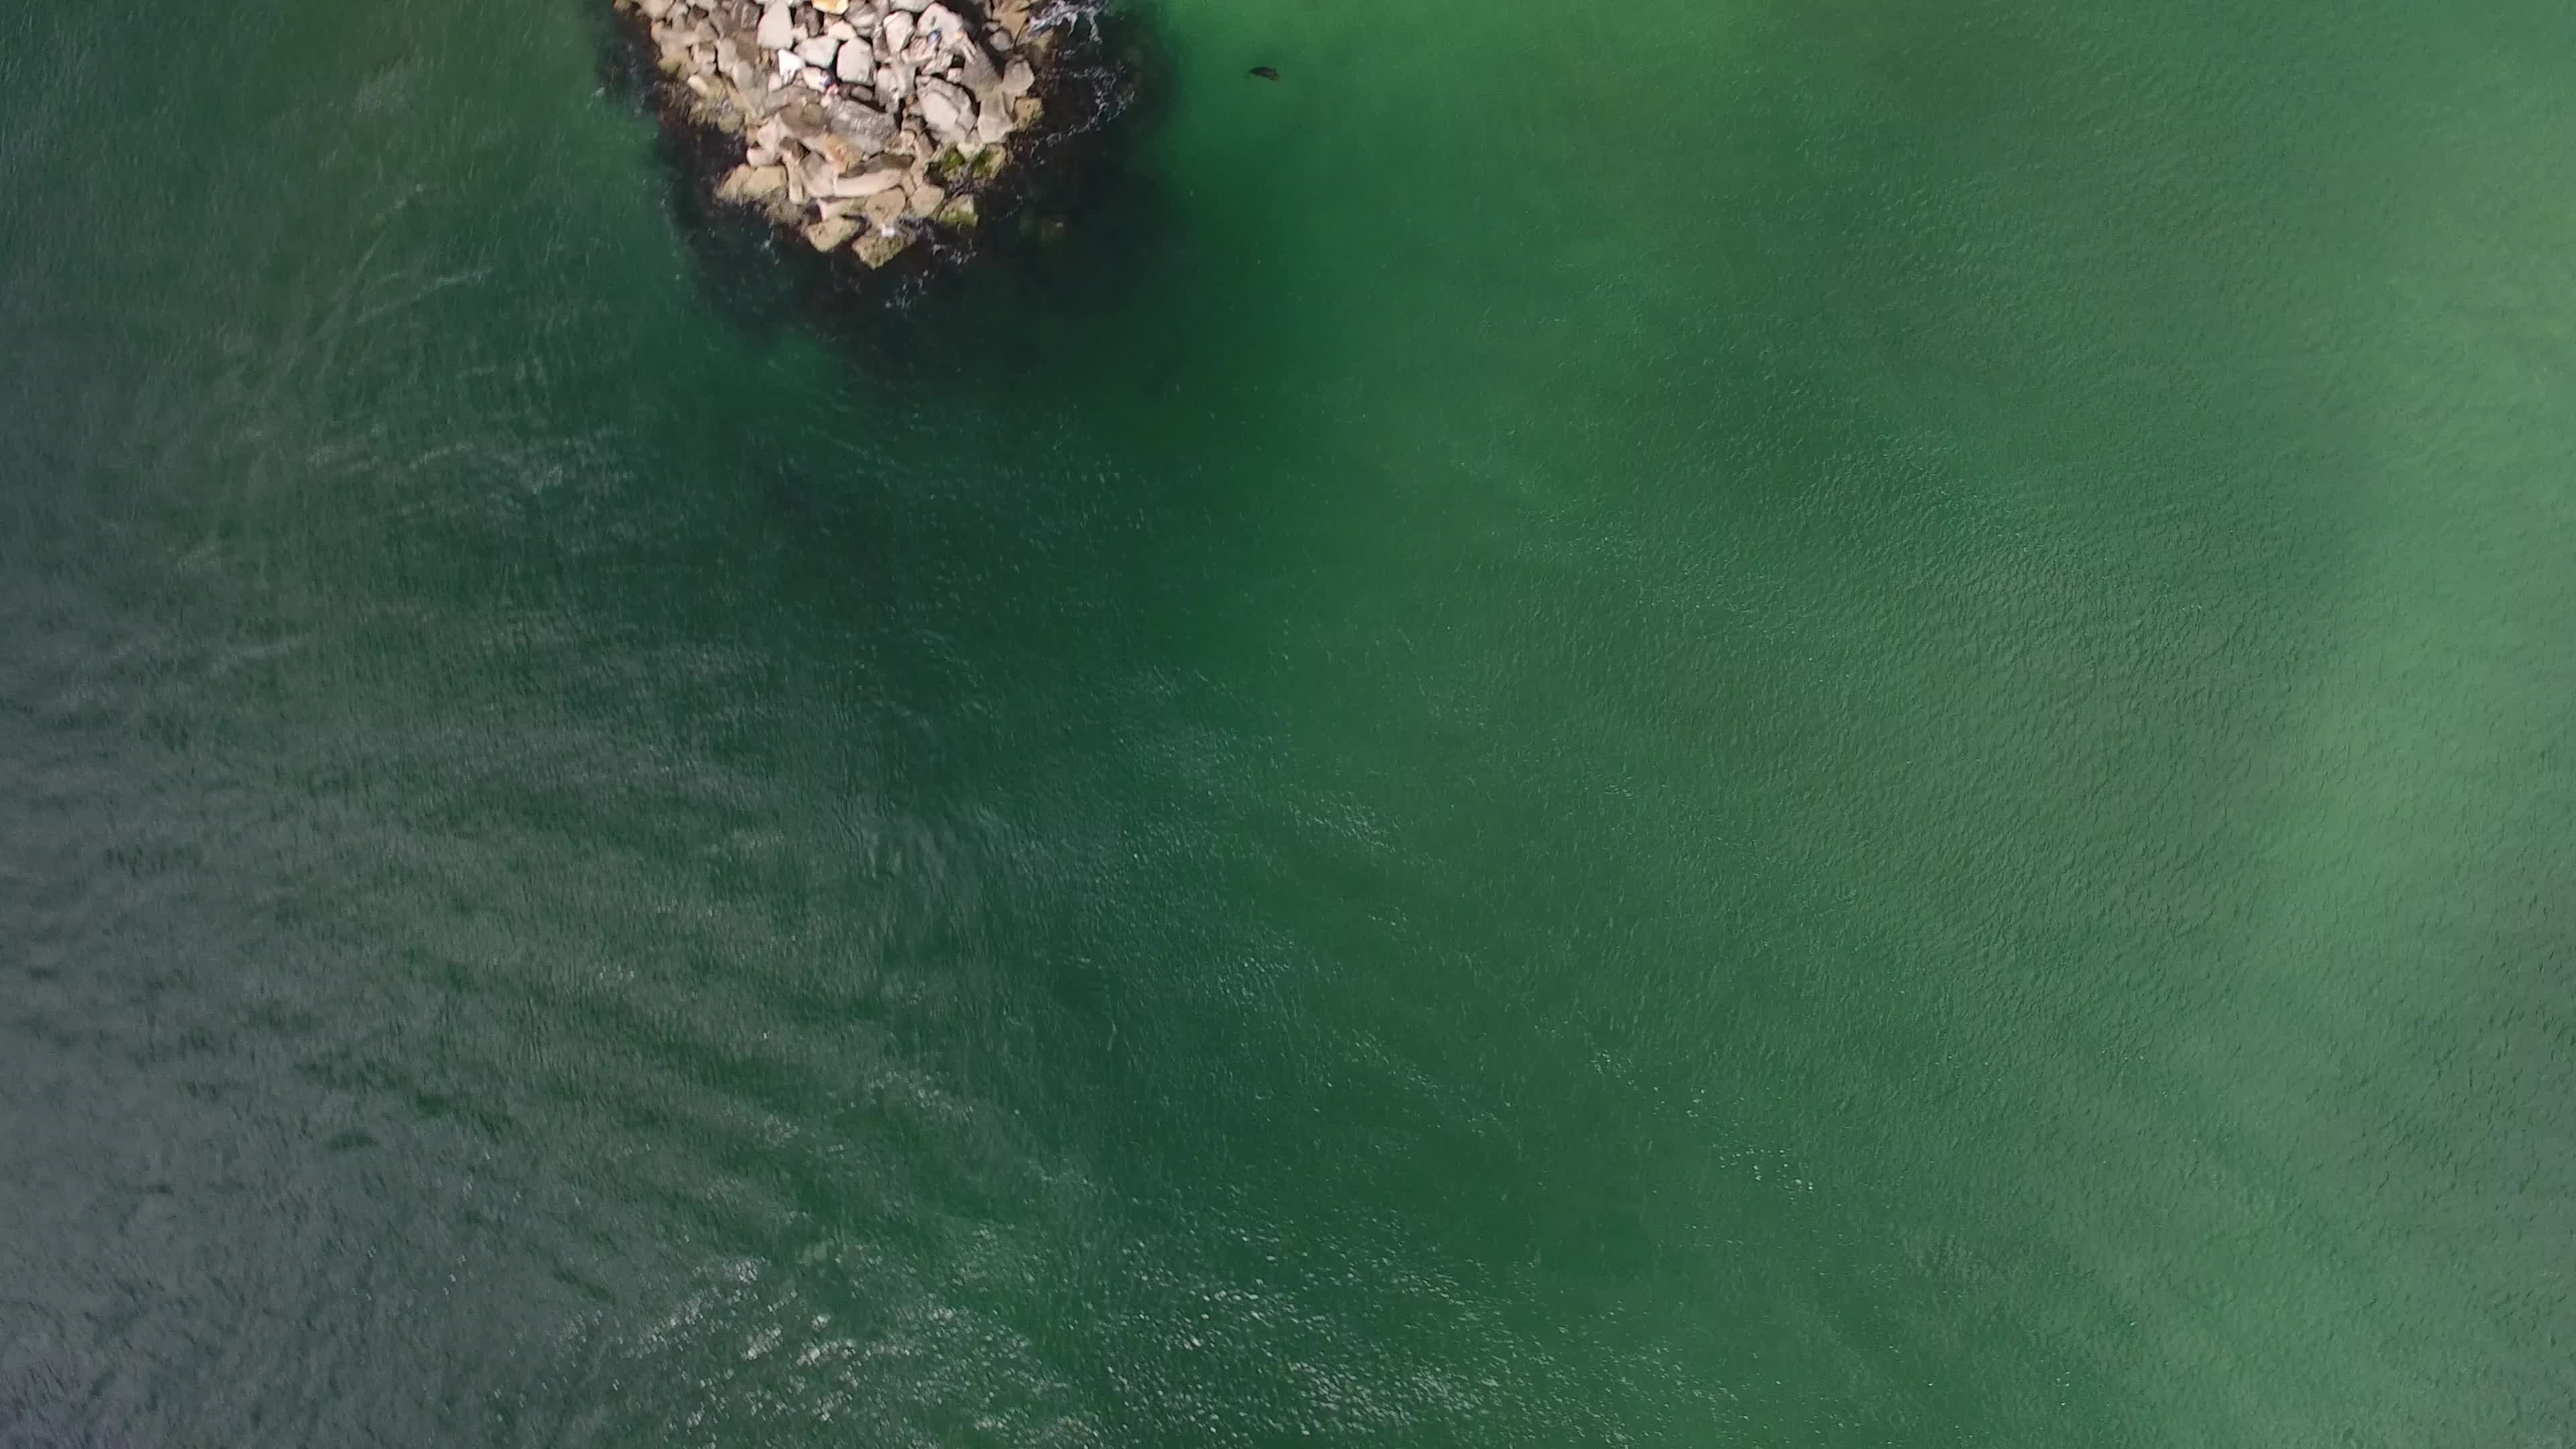dolphin: (1224, 48, 1292, 97)
